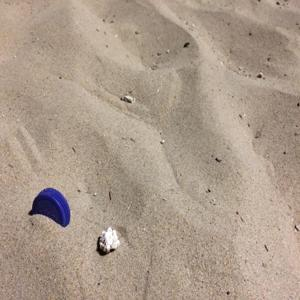plastic: (27, 182, 76, 239), (88, 228, 139, 264)
